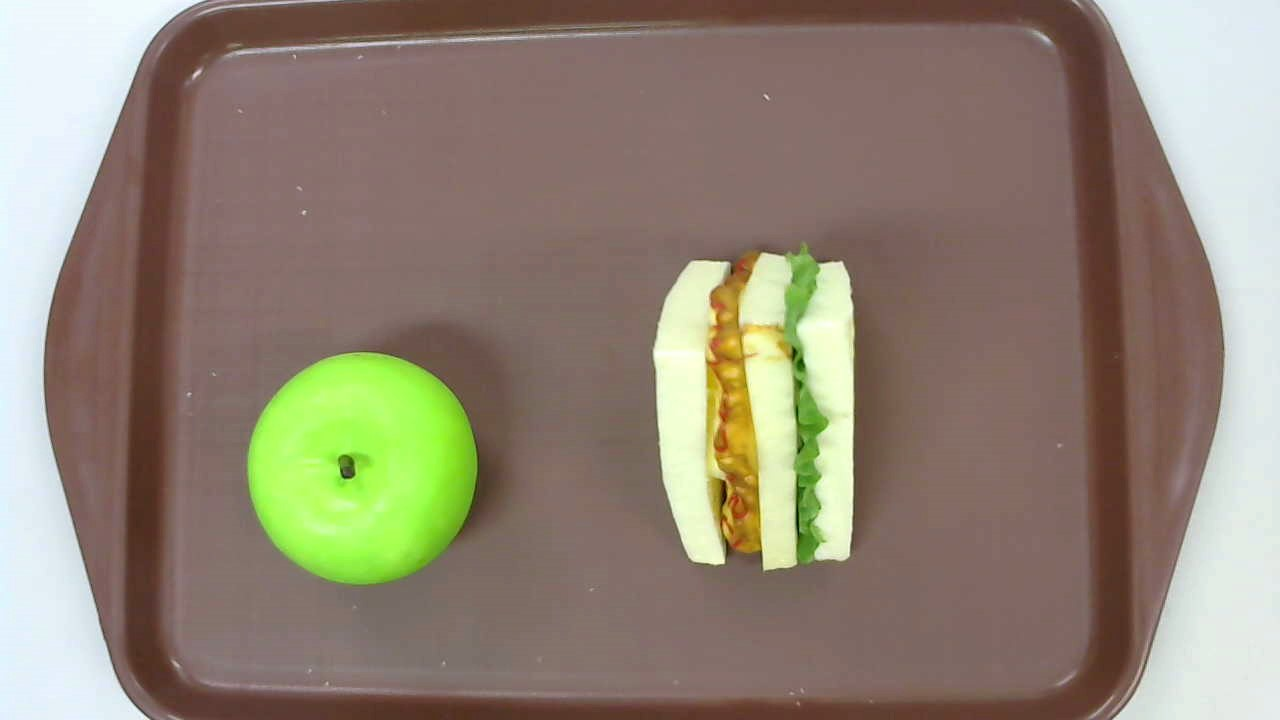green apple: (245, 352, 478, 586)
sandwich: (653, 240, 856, 571)
